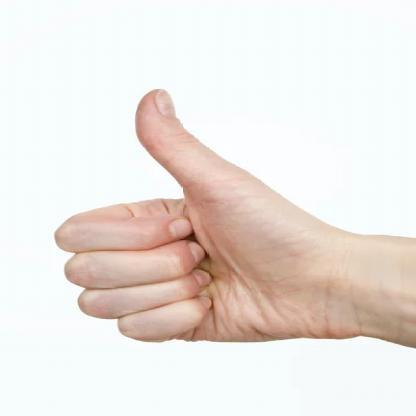thumb_up: (51, 88, 351, 358)
